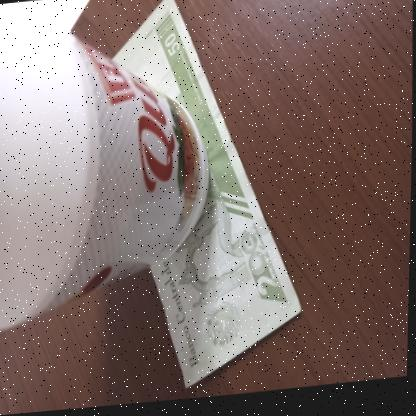fifty-back-vef: (102, 0, 310, 400)
